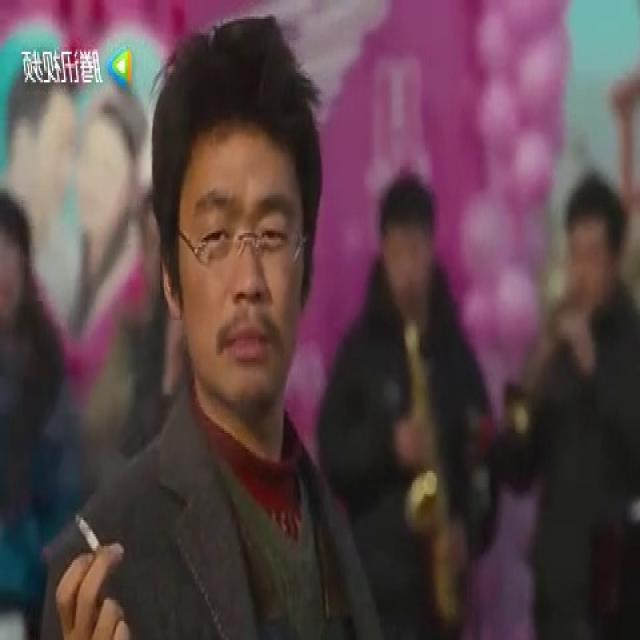smoking: (74, 510, 100, 559)
